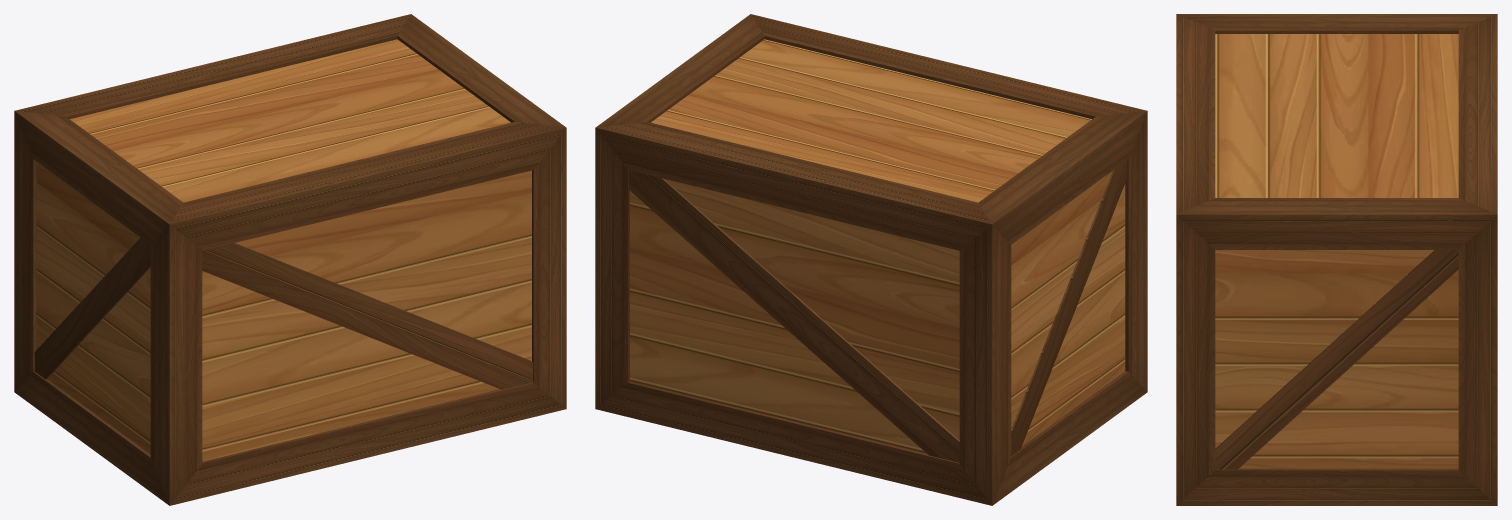
File: Crate4.fbx
The picture shows the model from 3 angles, left to right: view 1: azimuth 30°, elevation 25°; view 2: azimuth 150°, elevation 25°; view 3: azimuth 270°, elevation 25°; orthographic projection. The views are drawn at different scales.
Visible parts, largest first — view 1: Crate4; view 2: Crate4; view 3: Crate4.
Boxes of the visible parts, x1,y1,x2,y2 form: Crate4: (14, 14, 566, 505); Crate4: (595, 14, 1147, 505); Crate4: (1176, 14, 1497, 505).
Bounding box in the file's own units: 3.03 × 2.05 × 2.05.
